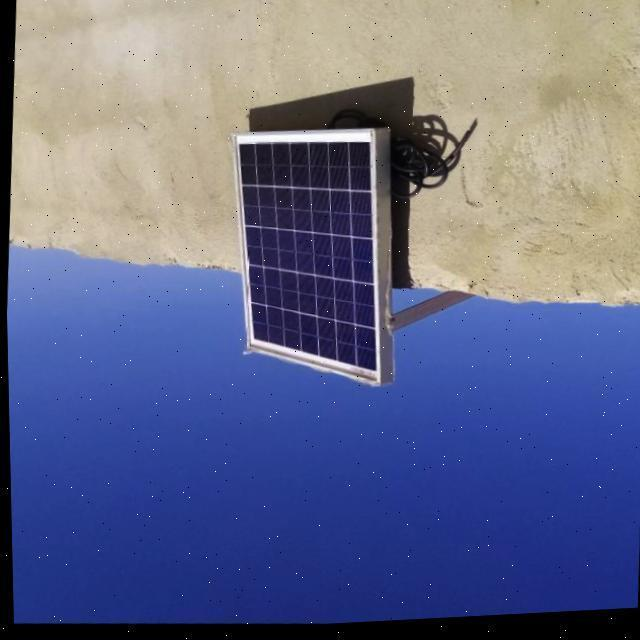Normal Solar Panel: (220, 126, 396, 395)
